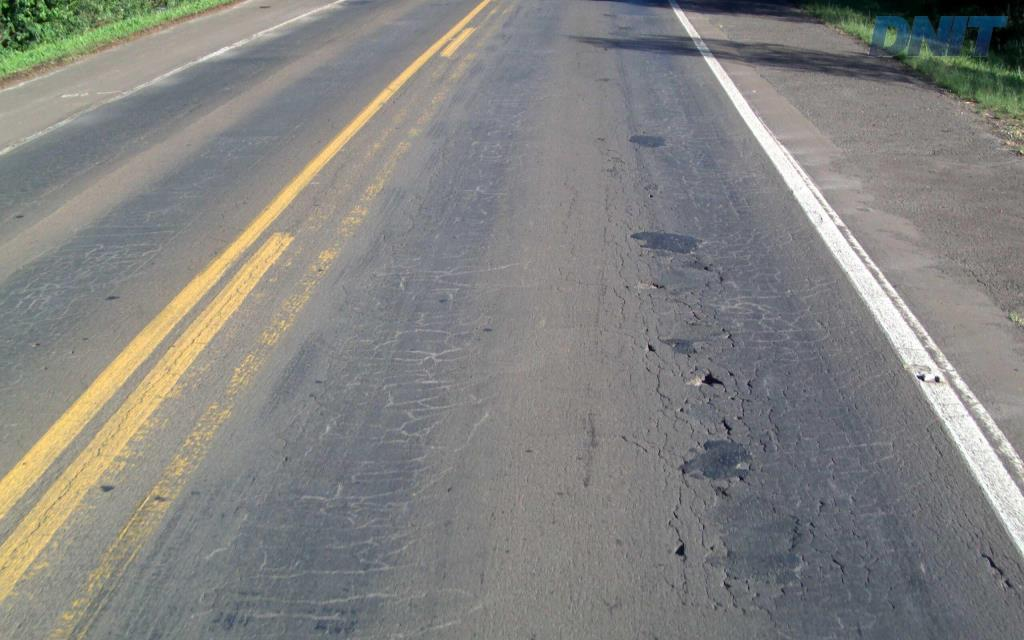crack: (700, 416, 752, 480), (787, 515, 803, 568)
pothole: (680, 368, 724, 388), (632, 278, 664, 291), (672, 540, 686, 557), (644, 340, 656, 355)
